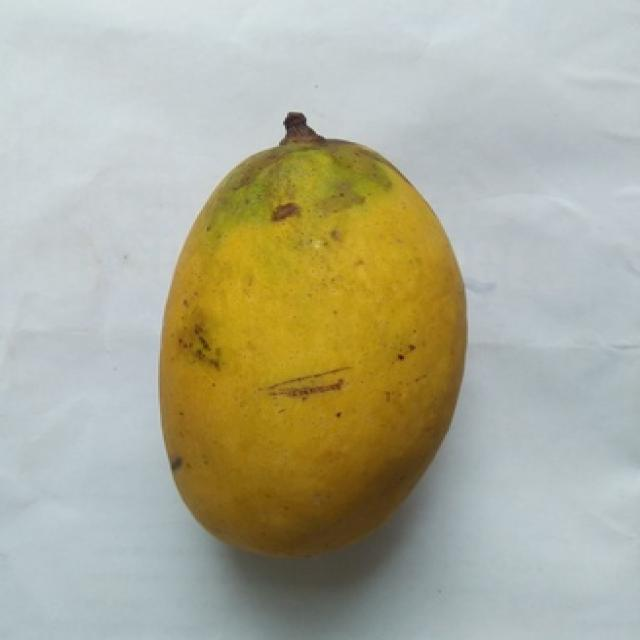Mango: (162, 113, 466, 555)
